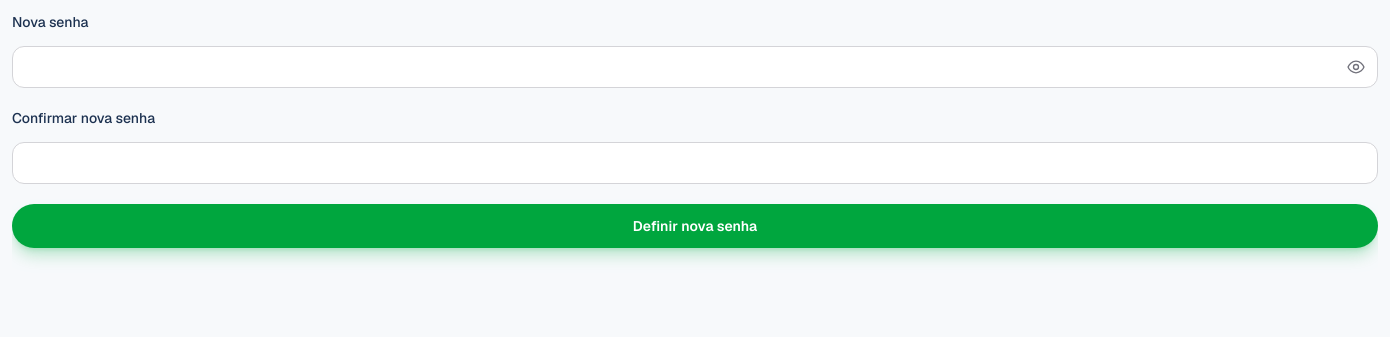
Test: PrimeiroAcessoForm › exibe erro seguro vindo da action (role=alert)
In the password field labelled "Nova senha": point(695, 67) [12,46,1378,88], type "nova-senha-forte"
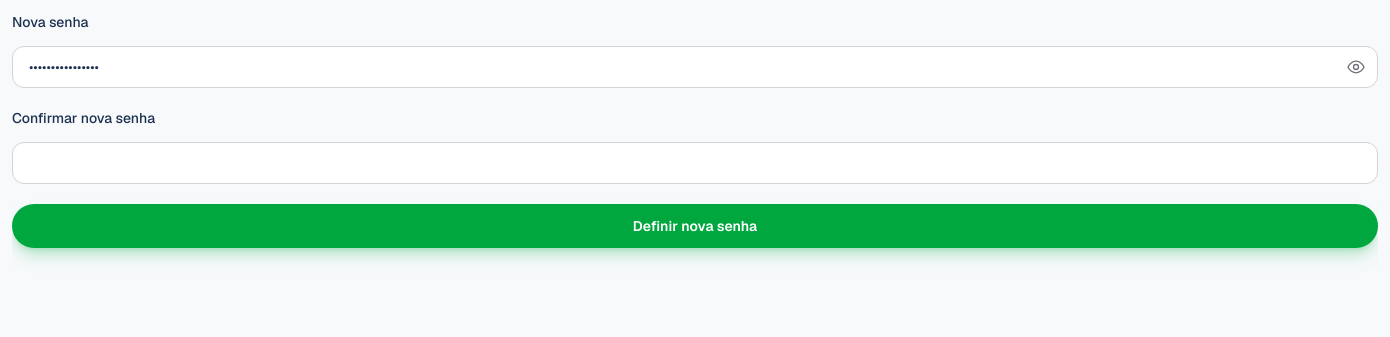
In the password field labelled "Confirmar nova senha": point(695, 163) [12,142,1378,184], type "nova-senha-forte"
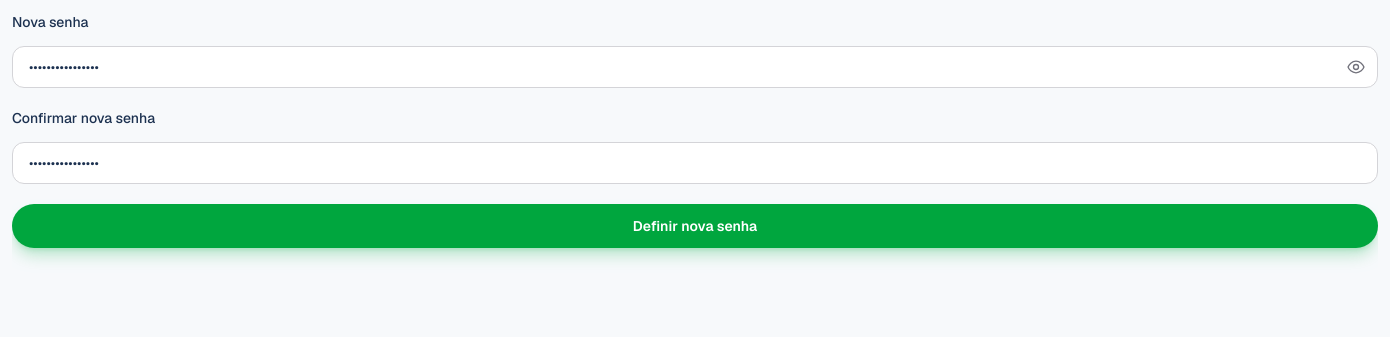
Click the button "Definir nova senha": point(695, 226) [12,204,1378,248]
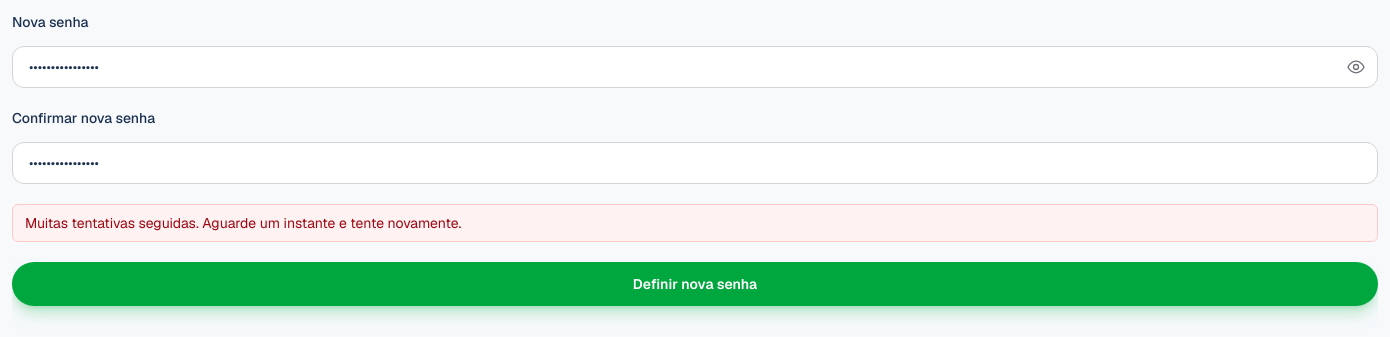
Check: the message shows "Muitas tentativas", box [25,214,461,232]
